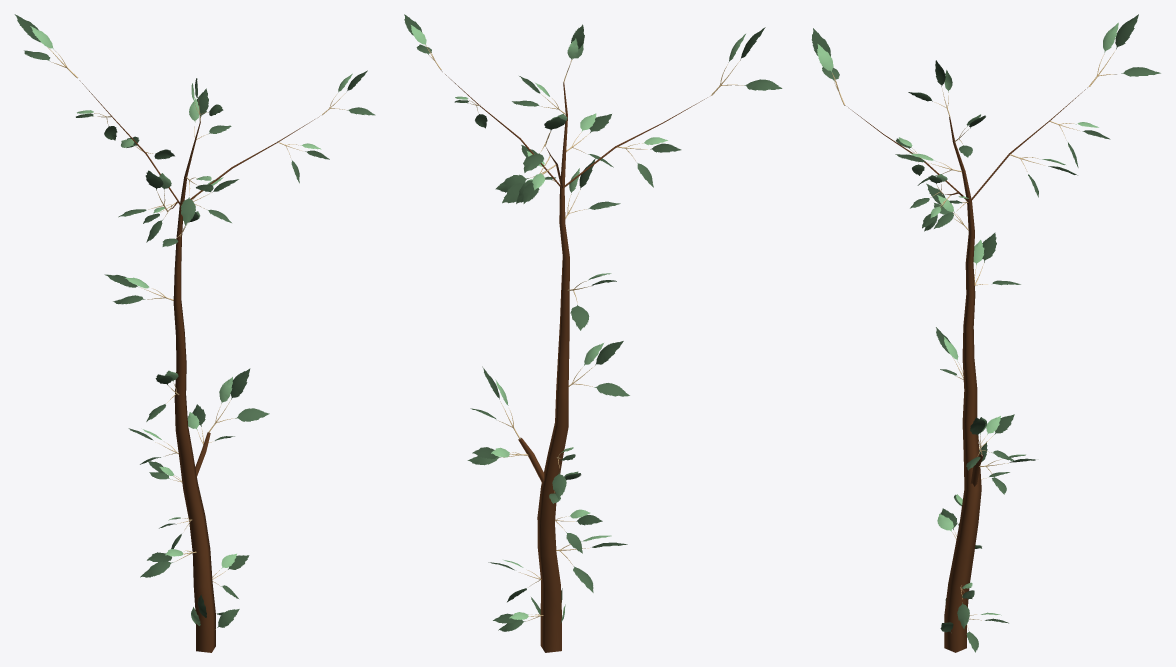
File: Tree21.fbx
The picture shows the model from 3 angles, left to right: view 1: azimuth 30°, elevation 25°; view 2: azimuth 150°, elevation 25°; view 3: azimuth 270°, elevation 25°; orthographic projection. The views are drawn at different scales.
Parts seen in each view (by area): view 1: Árbol.002, Hojas|tree|Dupli|13, Hojas|tree|Dupli|5, Hojas|tree|Dupli|17, Hojas|tree|Dupli|, Hojas|tree|Dupli|14; view 2: Árbol.002, Hojas|tree|Dupli|8, Hojas|tree|Dupli|21, Hojas|tree|Dupli|9, Hojas|tree|Dupli|16, Hojas|tree|Dupli|15, Hojas|tree|Dupli|4, Hojas|tree|Dupli|3, Hojas|tree|Dupli|2; view 3: Árbol.002, Hojas|tree|Dupli|5, Hojas|tree|Dupli|21, Hojas|tree|Dupli|, Hojas|tree|Dupli|10.
Boxes of the visible parts, left/top/right/bottom form: Árbol.002: left=79, top=80, right=319, bottom=652; Hojas|tree|Dupli|13: left=208, top=368, right=269, bottom=432; Hojas|tree|Dupli|5: left=14, top=14, right=77, bottom=77; Hojas|tree|Dupli|17: left=140, top=549, right=196, bottom=577; Hojas|tree|Dupli|: left=104, top=274, right=173, bottom=304; Hojas|tree|Dupli|14: left=189, top=88, right=231, bottom=139; Árbol.002: left=442, top=71, right=707, bottom=652; Hojas|tree|Dupli|8: left=568, top=341, right=629, bottom=396; Hojas|tree|Dupli|21: left=711, top=27, right=782, bottom=95; Hojas|tree|Dupli|9: left=616, top=137, right=681, bottom=187; Hojas|tree|Dupli|16: left=495, top=164, right=556, bottom=203; Hojas|tree|Dupli|15: left=555, top=509, right=602, bottom=553; Hojas|tree|Dupli|4: left=467, top=447, right=528, bottom=465; Hojas|tree|Dupli|3: left=566, top=113, right=613, bottom=167; Hojas|tree|Dupli|2: left=565, top=159, right=620, bottom=218; Árbol.002: left=845, top=87, right=1087, bottom=652; Hojas|tree|Dupli|5: left=1088, top=14, right=1160, bottom=86; Hojas|tree|Dupli|21: left=811, top=28, right=844, bottom=105; Hojas|tree|Dupli|: left=973, top=232, right=1020, bottom=285; Hojas|tree|Dupli|10: left=979, top=414, right=1014, bottom=460.
Size of the model in its own units: 333 by 621 by 336.
